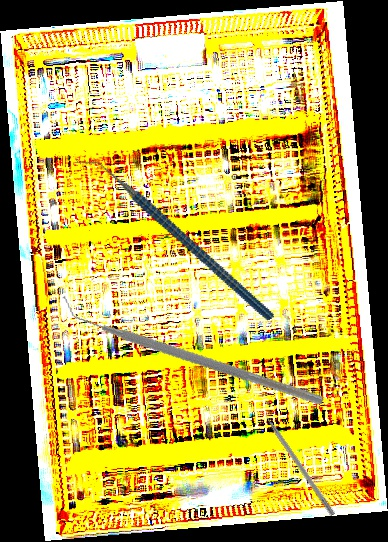Chopper: (61, 242, 326, 456), (74, 112, 276, 365)
Pusher: (256, 402, 337, 517)
